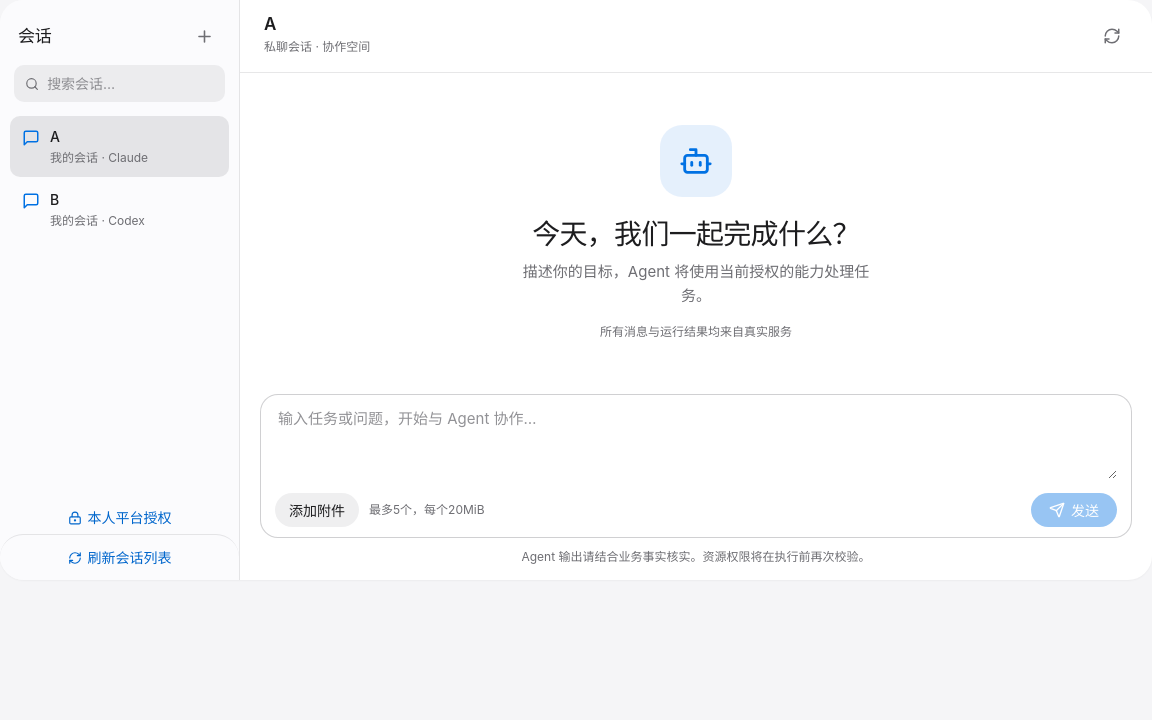
agent choice in the workbench › labels each conversation with its agent and offers the choice with the user preference preselected
expect the text "我的会话 · Claude" is shown: met, box [50,149,148,167]
expect the text "我的会话 · Codex" is shown: met, box [50,212,145,230]
Step 1. Click the button named "创建会话" → (204, 36), box [188,20,221,53]
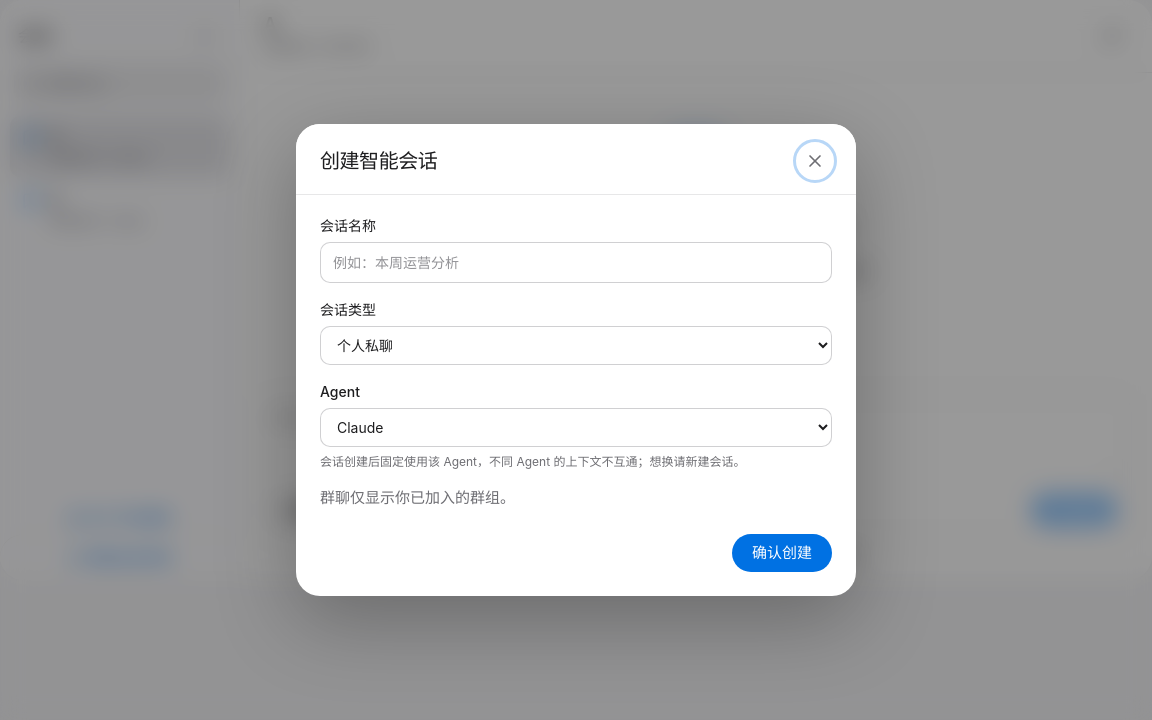
expect the dropdown labelled "Agent 会话创建后固定使用该 Agent，不同 Agent 的上下文不互通；想换请新建会话。" shows "Claude": met, box [320,408,832,447]
